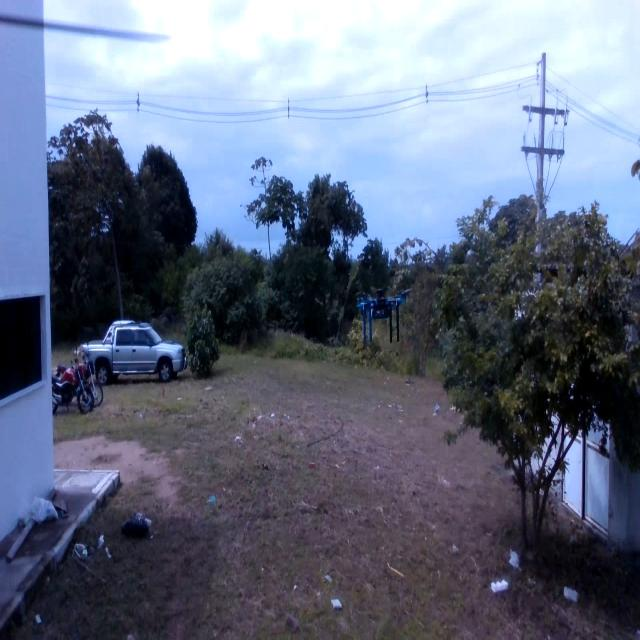-uav-: (356, 274, 407, 356)
